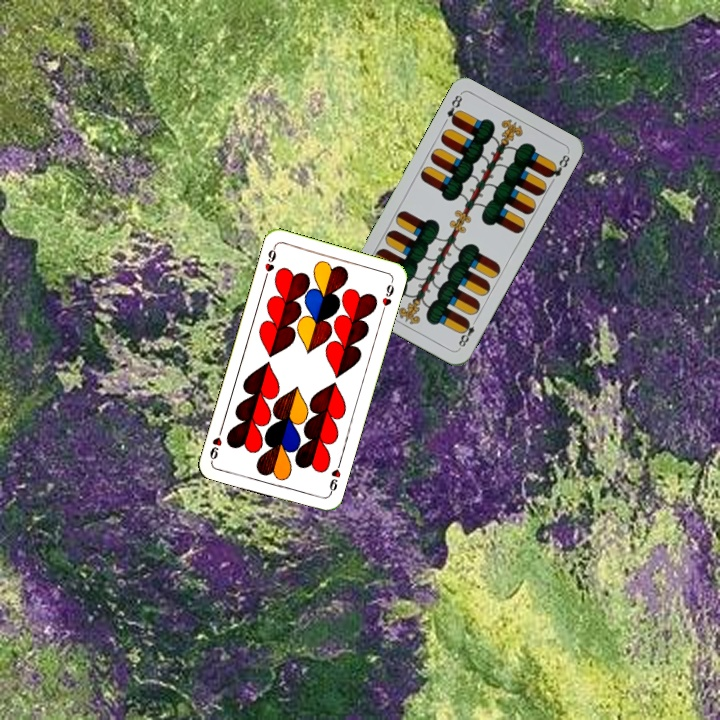E8: (454, 314, 480, 351), (443, 90, 465, 127)
H9: (261, 242, 279, 282), (325, 458, 343, 498)
